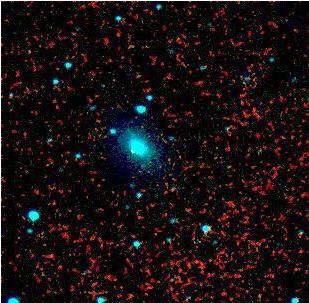star: (116, 136, 146, 166)
